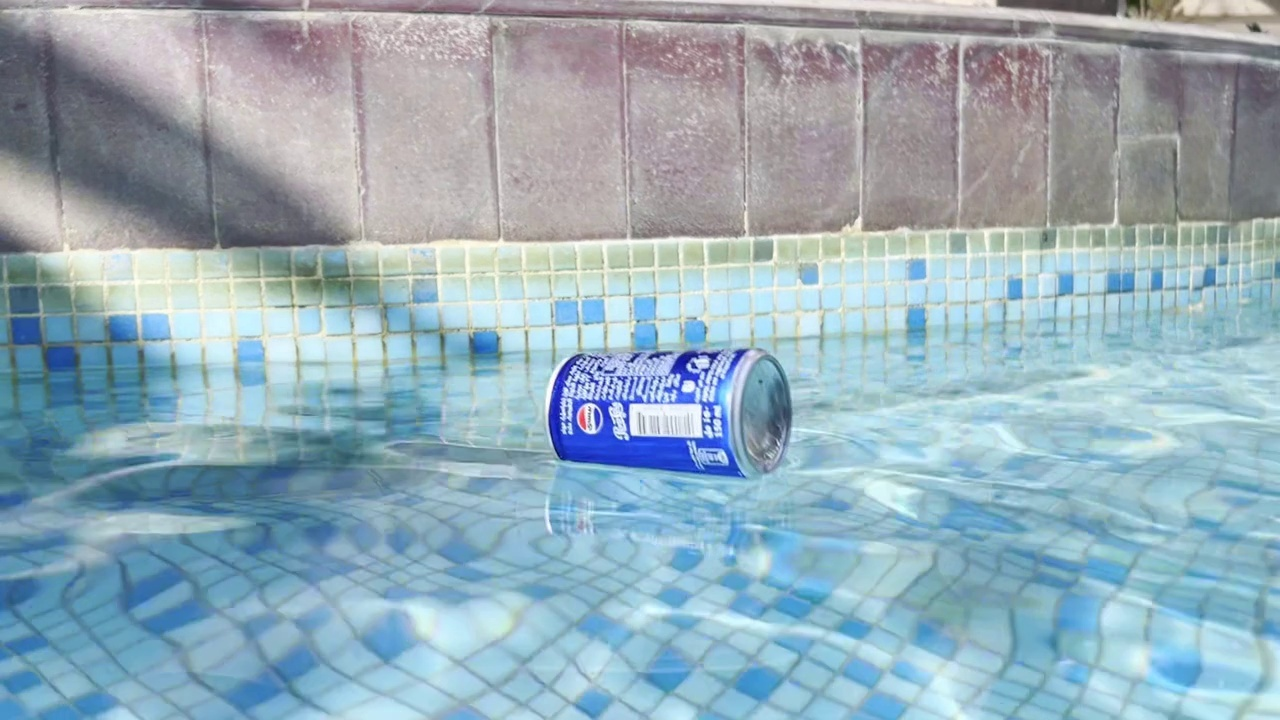debris: (533, 341, 801, 484)
